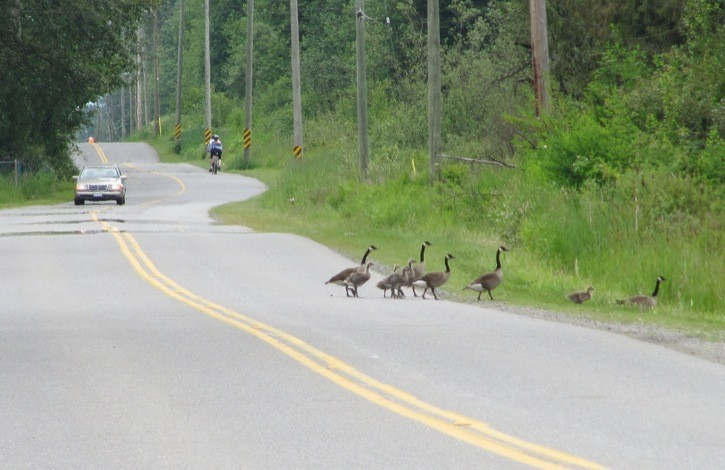goose: (376, 238, 435, 296), (462, 245, 512, 302), (325, 244, 377, 296), (615, 274, 668, 311), (418, 253, 456, 295)
